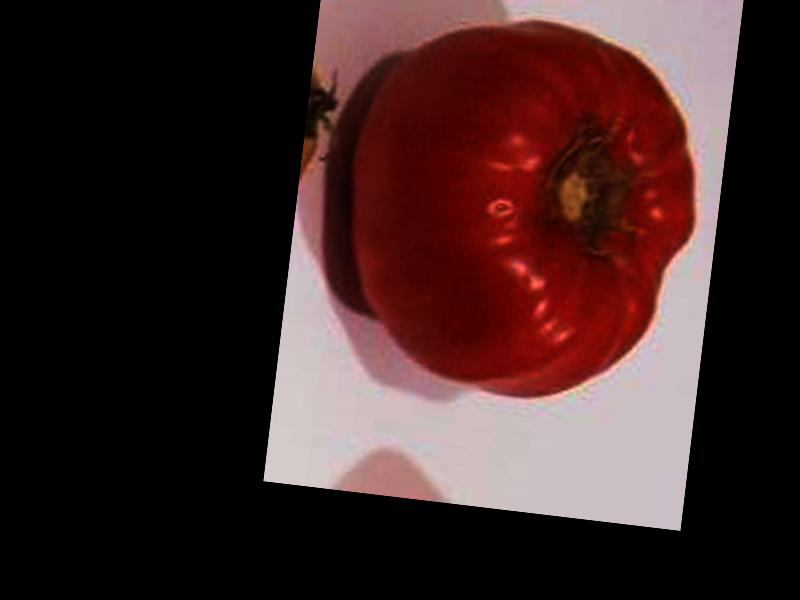Tomato: (333, 4, 713, 410)
